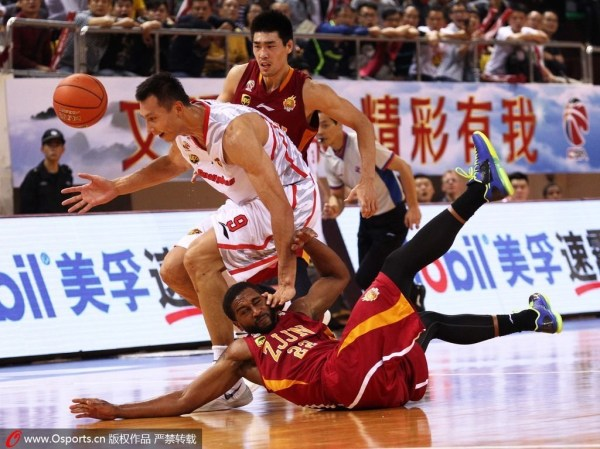10+: (6, 4, 579, 423)
down: (55, 126, 574, 425)
